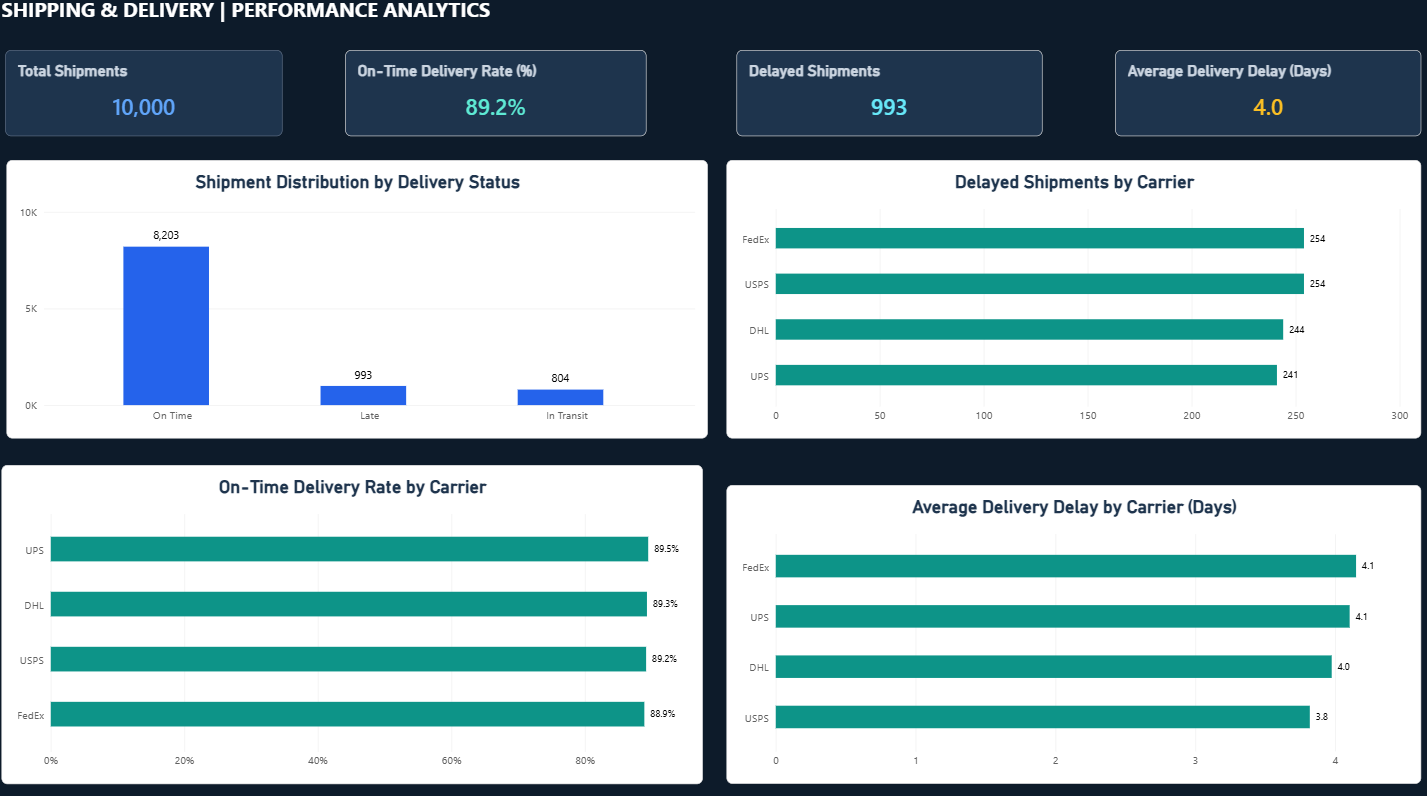

The dashboard page shown, as its layout file describes it:
{"tool":"powerbi","page":{"name":"Shipping & Delivery","canvas":[1920,1080],"ordinal":3},"visuals":[{"type":"textbox","box":[10,0,724.7,63.5],"z":0},{"type":"card","title":"Total Shipments","fields":{"Values":["Shipping Performance.Total Shipments"]},"box":[15,73.5,370.7,115.2],"z":1000},{"type":"card","title":"On-Time Delivery Rate (%)","fields":{"Values":["Shipping Performance.On-Time Delivery Rate"]},"box":[469.2,73.5,402.4,115.2],"z":2000},{"type":"card","title":"Delayed Shipments","fields":{"Values":["Shipping Performance.Delayed Shipments"]},"box":[991.2,73.5,409,115],"z":3000},{"type":"card","title":"Average Delivery Delay (Days)","fields":{"Values":["Shipping Performance.Average Delivery Delay (Days)"]},"box":[1497.8,73.5,409,115],"z":4000},{"type":"clusteredColumnChart","title":"Shipment Distribution by Delivery Status","fields":{"Category":["Shipping Performance.DeliveryPerformance"],"Y":["Shipping Performance.Total Shipments"]},"box":[16,220,937.1,372.2],"z":5000},{"type":"clusteredBarChart","title":"Delayed Shipments by Carrier","fields":{"Category":["Shipping Performance.Carrier"],"Y":["Shipping Performance.Delayed Shipments"]},"box":[978.5,220.4,928.4,372.4],"z":6000},{"type":"clusteredBarChart","title":"On-Time Delivery Rate by Carrier","fields":{"Category":["Shipping Performance.Carrier"],"Y":["Shipping Performance.On-Time Delivery Rate"]},"box":[10,627.8,937.1,426.3],"z":7000},{"type":"clusteredBarChart","title":"Average Delivery Delay by Carrier (Days)","fields":{"Category":["Shipping Performance.Carrier"],"Y":["Shipping Performance.Average Delivery Delay (Days)"]},"box":[978,654.4,927.6,399.1],"z":8000}]}

Visuals, with their boxes in screenshot pixels (x1, y1, x2, y2), scaled from the page's 1920x1080 canvas onto the 1427x796 screenshot:
textbox: Rect(7, 0, 546, 47)
"Total Shipments" card: Rect(11, 54, 287, 139)
"On-Time Delivery Rate (%)" card: Rect(349, 54, 648, 139)
"Delayed Shipments" card: Rect(737, 54, 1041, 139)
"Average Delivery Delay (Days)" card: Rect(1113, 54, 1417, 139)
"Shipment Distribution by Delivery Status" clusteredColumnChart: Rect(12, 162, 708, 436)
"Delayed Shipments by Carrier" clusteredBarChart: Rect(727, 162, 1417, 437)
"On-Time Delivery Rate by Carrier" clusteredBarChart: Rect(7, 463, 704, 777)
"Average Delivery Delay by Carrier (Days)" clusteredBarChart: Rect(727, 482, 1416, 776)
